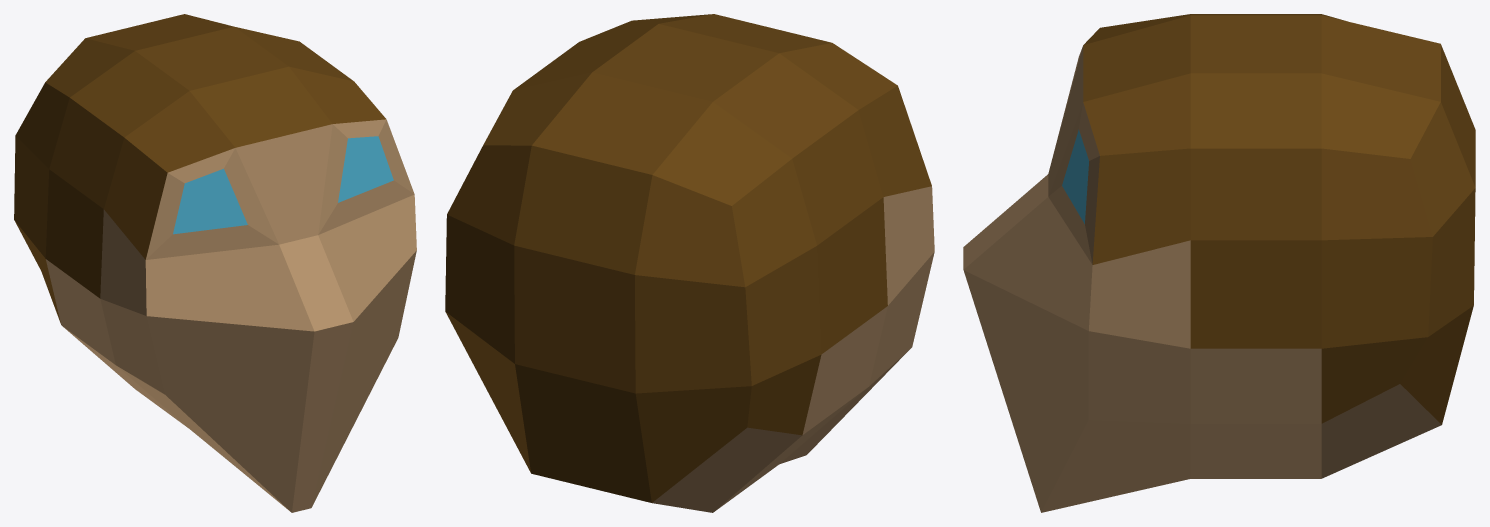
The model's file is Head.fbx.
The picture shows the model from 3 angles, left to right: view 1: azimuth 30°, elevation 25°; view 2: azimuth 150°, elevation 25°; view 3: azimuth 270°, elevation 25°; orthographic projection. The views are drawn at different scales.
Parts seen in each view (by area): view 1: Head; view 2: Head; view 3: Head.
Part boxes in pixels (left/top/right/bottom): Head: left=14, top=14, right=416, bottom=512; Head: left=445, top=14, right=934, bottom=512; Head: left=963, top=14, right=1475, bottom=512.
Size of the model in its own units: 547 by 726 by 728.
